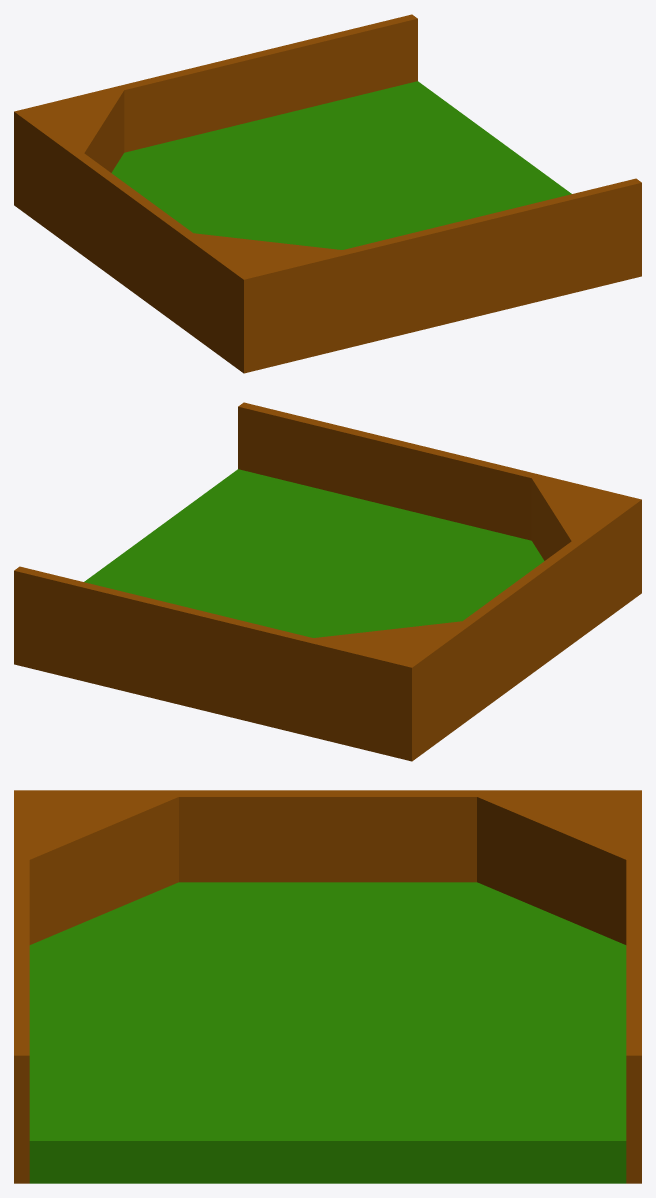
File: start_wide.fbx
The picture shows the model from 3 angles, top to bottom: view 1: azimuth 30°, elevation 25°; view 2: azimuth 150°, elevation 25°; view 3: azimuth 270°, elevation 25°; orthographic projection. The views are drawn at different scales.
Parts seen in each view (by area): view 1: Plane; view 2: Plane; view 3: Plane.
Part boxes in pixels (left/top/right/bottom): Plane: left=14, top=14, right=641, bottom=373; Plane: left=14, top=402, right=641, bottom=761; Plane: left=14, top=790, right=641, bottom=1183.
Size of the model in its own units: 400 by 90 by 400.
